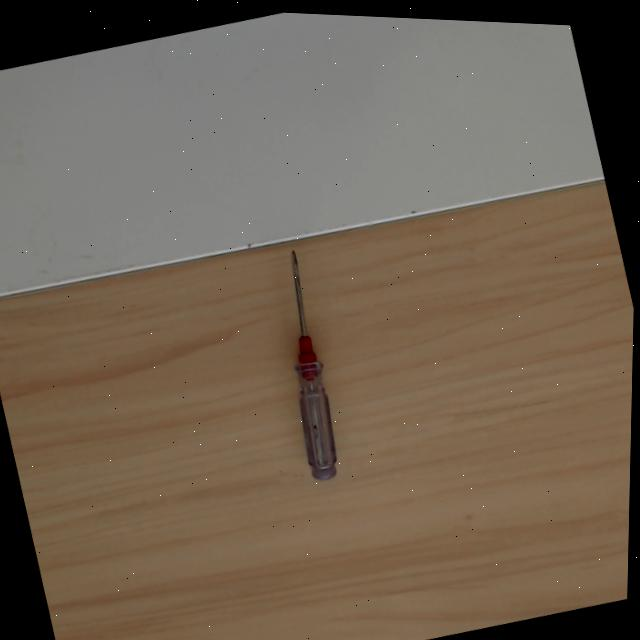Obeng-Kecil: (278, 248, 340, 481)
